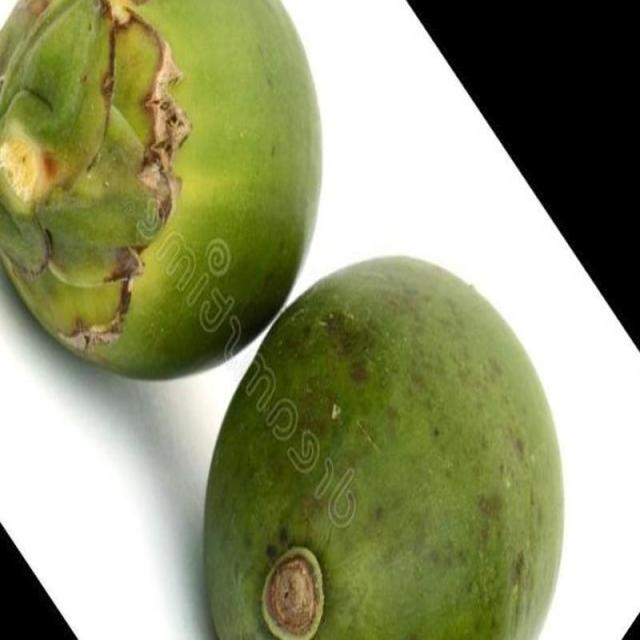good: (202, 255, 566, 639)
